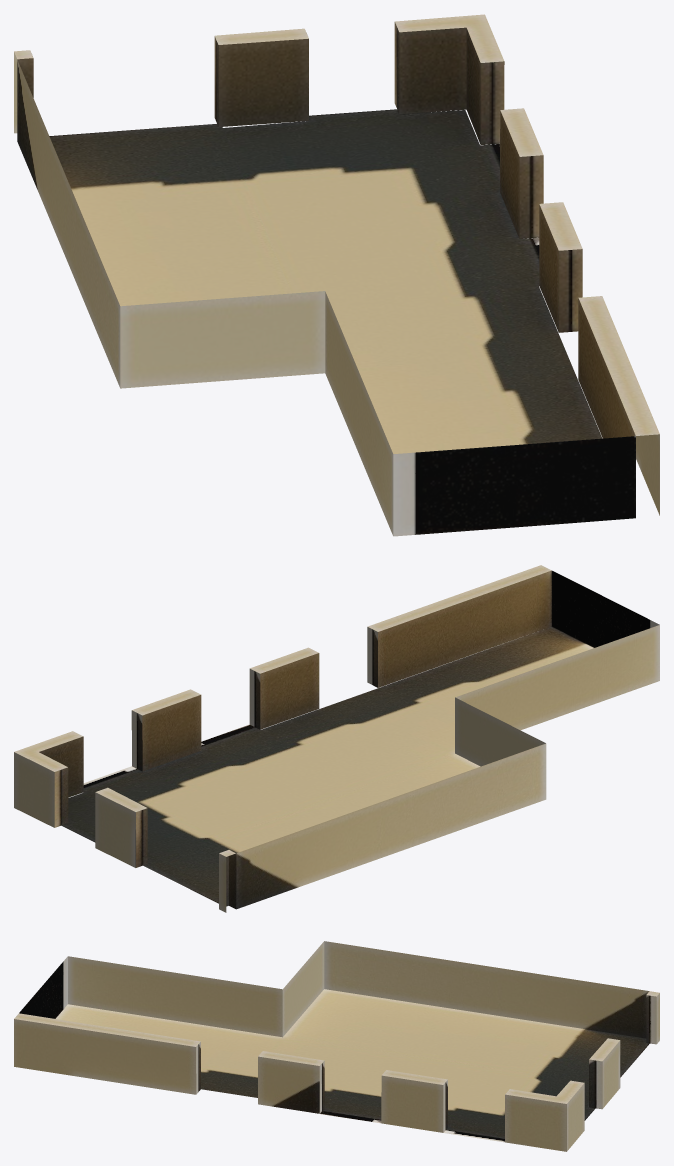
File: Building_05_LV03_Walls_App06.fbx
3 views of the same model, one above another, from view 1: azimuth 30°, elevation 25°; view 2: azimuth 150°, elevation 25°; view 3: azimuth 270°, elevation 25° (orthographic). The views are drawn at different scales.
Visible parts, largest first — view 1: Building_05_LV03_Walls_App06; view 2: Building_05_LV03_Walls_App06; view 3: Building_05_LV03_Walls_App06.
Part boxes in pixels (box(x1,y1,x2,y2)): Building_05_LV03_Walls_App06: box(14, 14, 659, 536); Building_05_LV03_Walls_App06: box(14, 565, 659, 912); Building_05_LV03_Walls_App06: box(14, 941, 659, 1151).
Bounding box in the file's own units: 10.84 × 1.49 × 18.17.
Materials: 1 (1 with a texture image).
